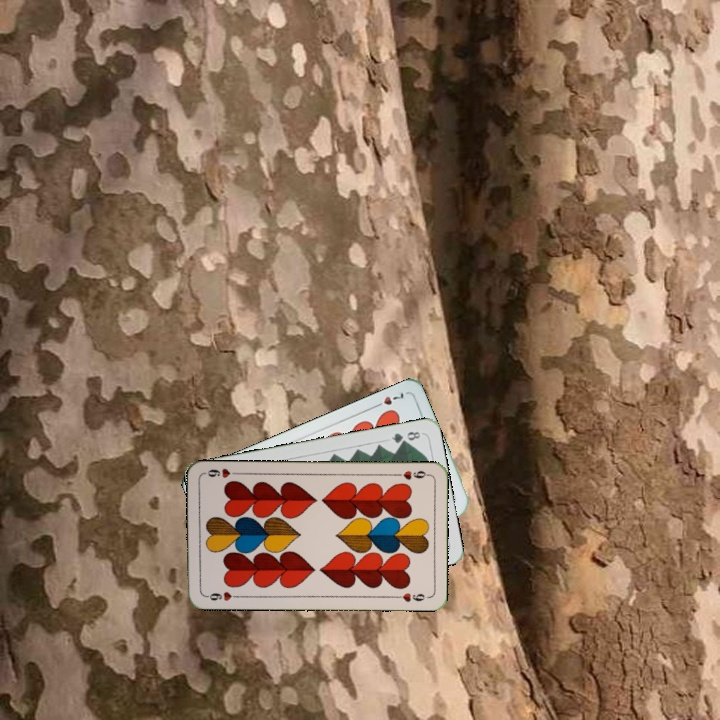G8: (387, 427, 423, 446)
H7: (369, 388, 406, 410)
H9: (201, 588, 242, 603), (391, 467, 431, 482)
